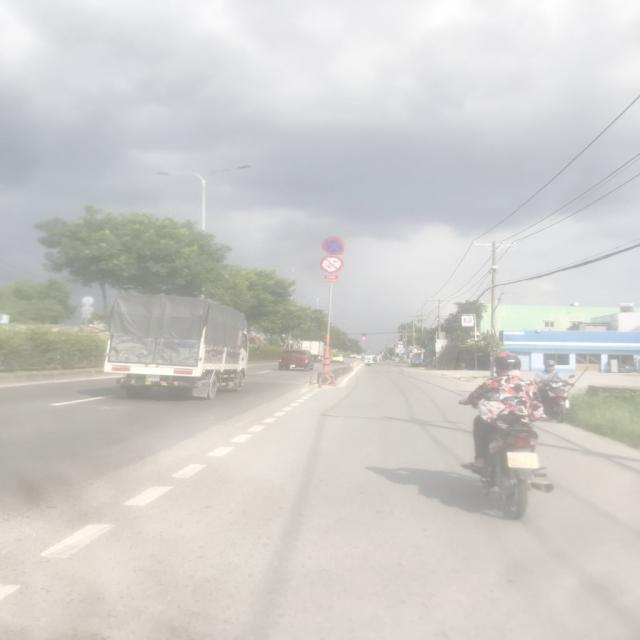107-cam-oto-khach-va-oto-tai: (398, 341, 402, 344)
